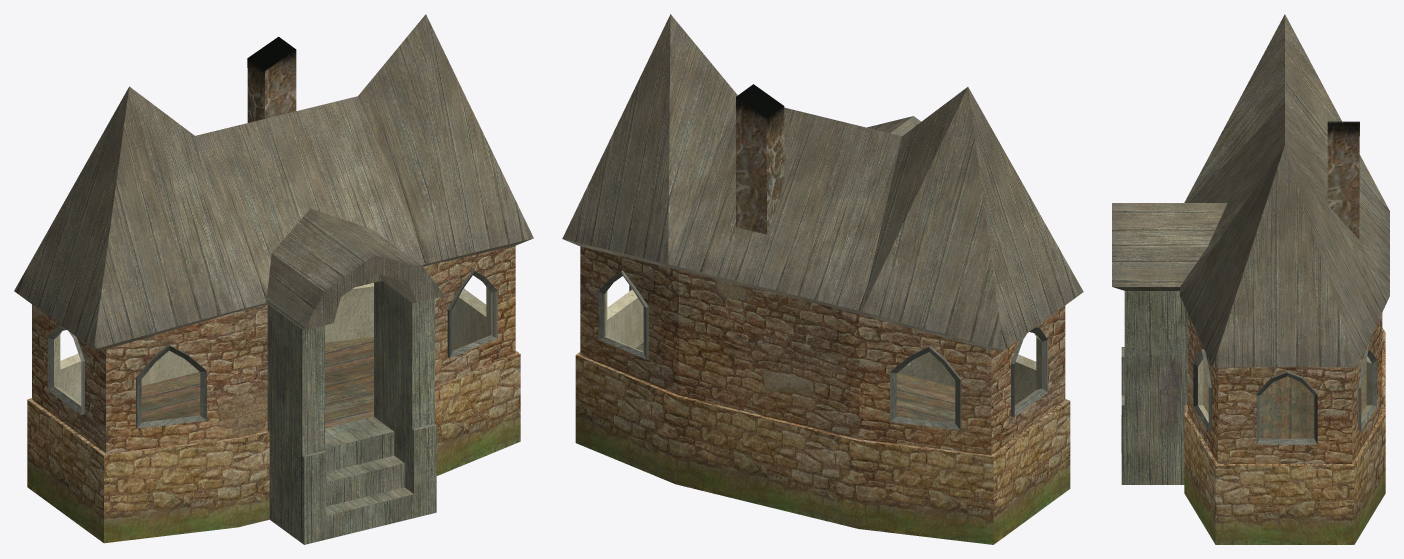
File: house4.glb
3 renders of one model, left to right at view 1: azimuth 30°, elevation 25°; view 2: azimuth 150°, elevation 25°; view 3: azimuth 270°, elevation 25°, orthographic. The views are drawn at different scales.
Parts seen in each view (by area): view 1: house4-col; view 2: house4-col; view 3: house4-col.
Boxes of the visible parts, x1,y1,x2,y2 form: house4-col: (14, 14, 533, 544); house4-col: (562, 14, 1083, 544); house4-col: (1112, 14, 1389, 544).
Size of the model in its own units: 7.08 by 6.35 by 4.27.
Materials: 15 (15 with a texture image).
